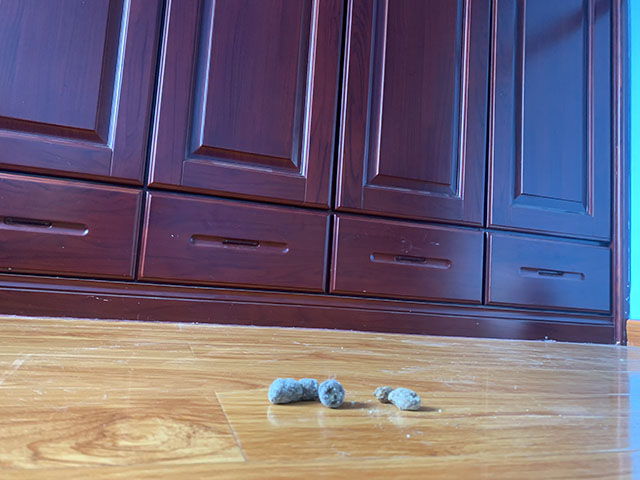cabinet: (1, 1, 633, 348)
feces: (267, 376, 345, 410), (372, 385, 422, 412)
